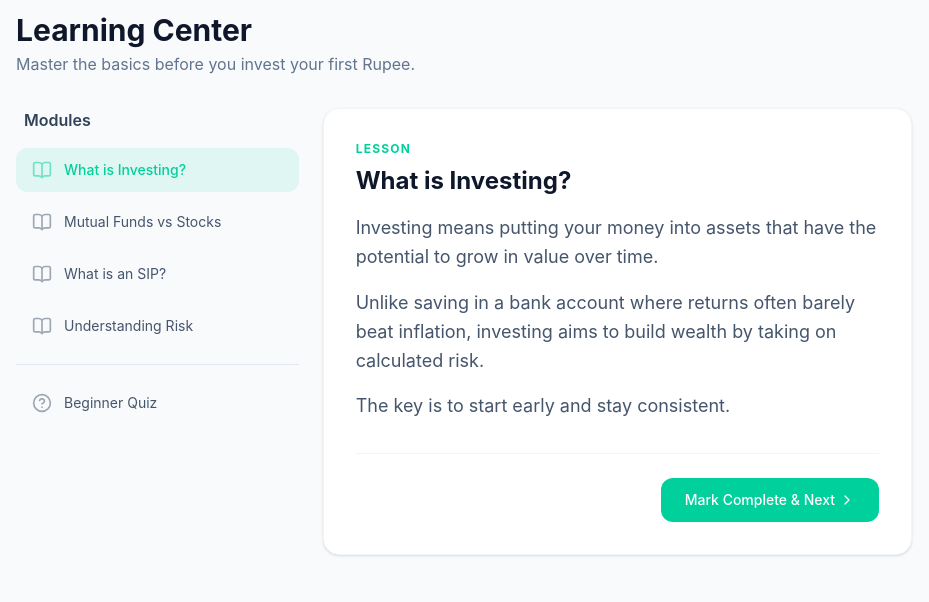
Comprehensive QA Audit › D. Learning and quiz › renders lessons and allows navigation to quiz
The width and height of the screenshot is (929, 602).
Expected: the text "What is Investing?" is shown, [64, 160, 186, 180]
Complete all 4 lessons
Click the button "Mark Complete & Next" at (770, 500), box [661, 478, 879, 522]
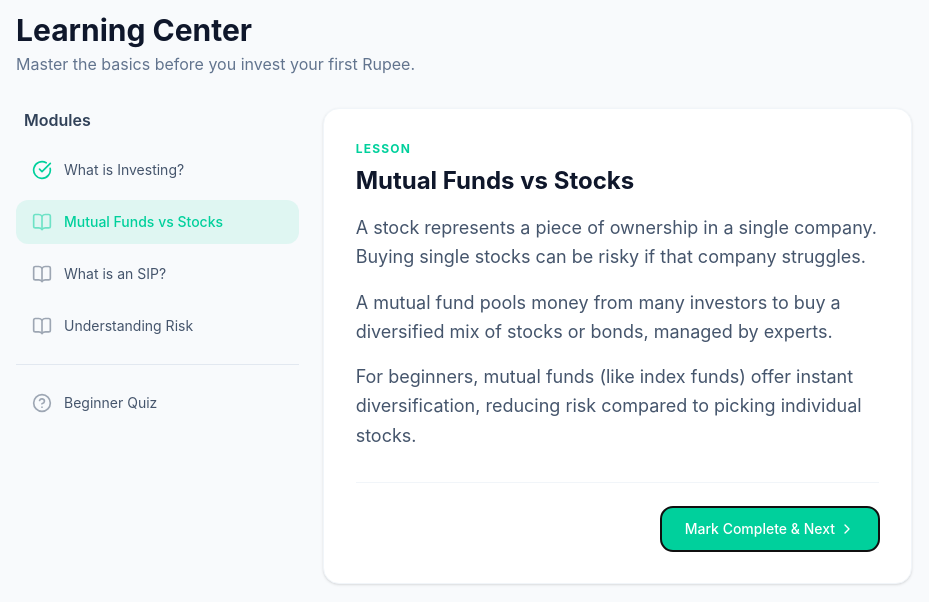
Click the button "Mark Complete & Next" at (770, 529), box [661, 507, 879, 551]
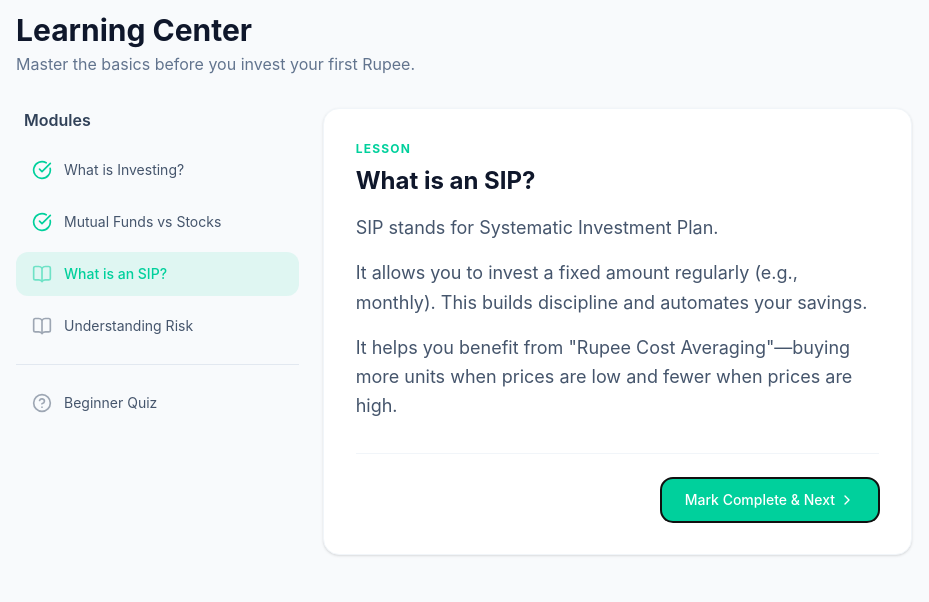
Click the button "Mark Complete & Next" at (770, 500), box [661, 478, 879, 522]
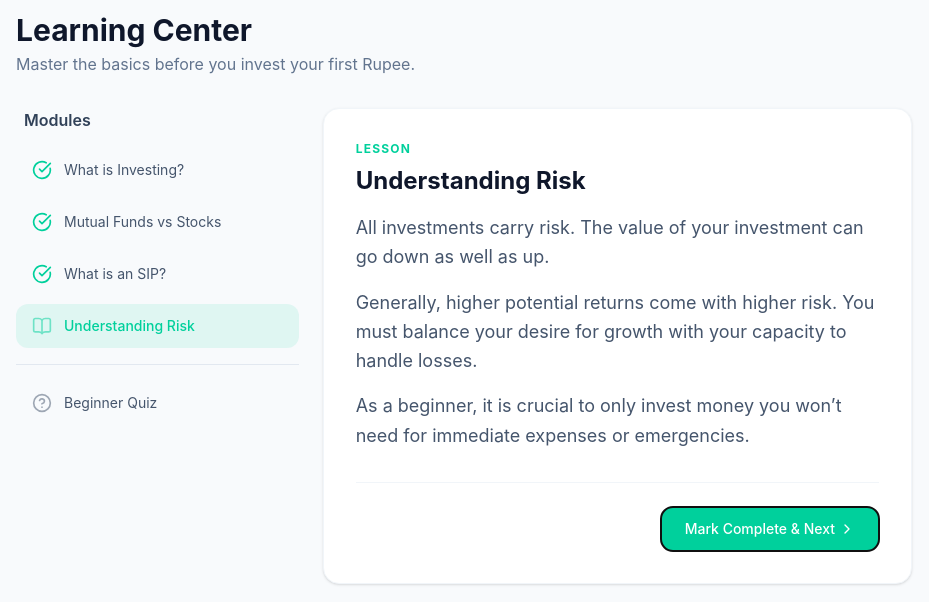
Click the button "Mark Complete & Next" at (770, 529), box [661, 507, 879, 551]
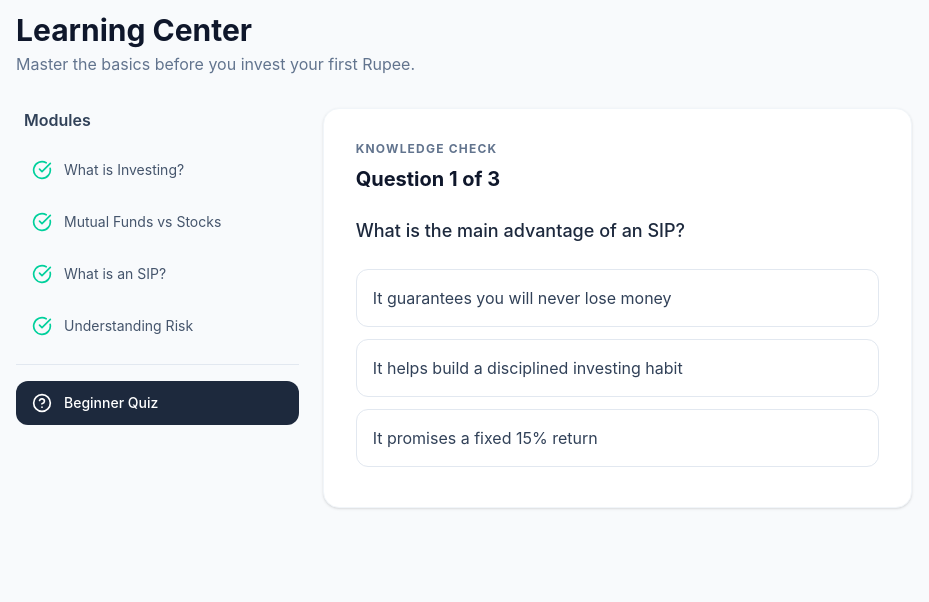
Now the heading "Question 1 of 3" is shown, box [356, 167, 500, 191]
